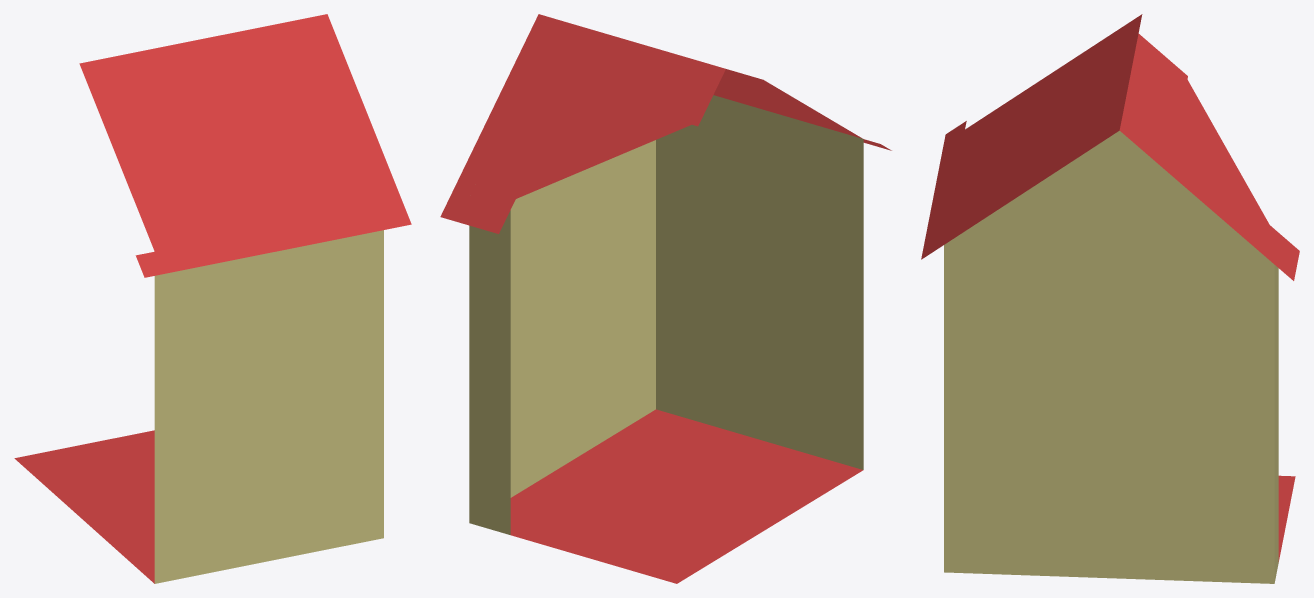
3 renders of one model, left to right at view 1: azimuth 30°, elevation 25°; view 2: azimuth 150°, elevation 25°; view 3: azimuth 270°, elevation 25°, orthographic.
Size of the model in its own units: 7.74 by 8.95 by 11.91.
